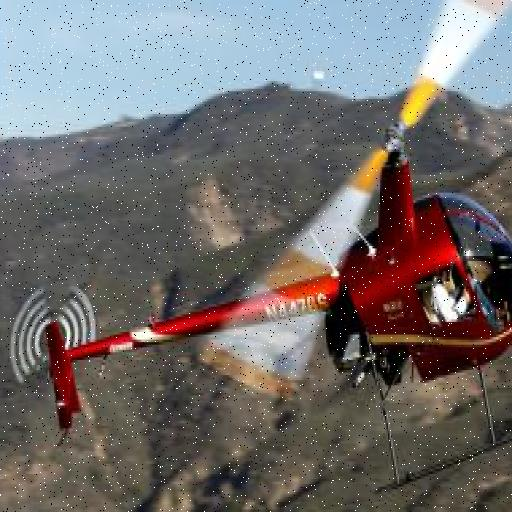helicopter: (18, 1, 512, 488)
